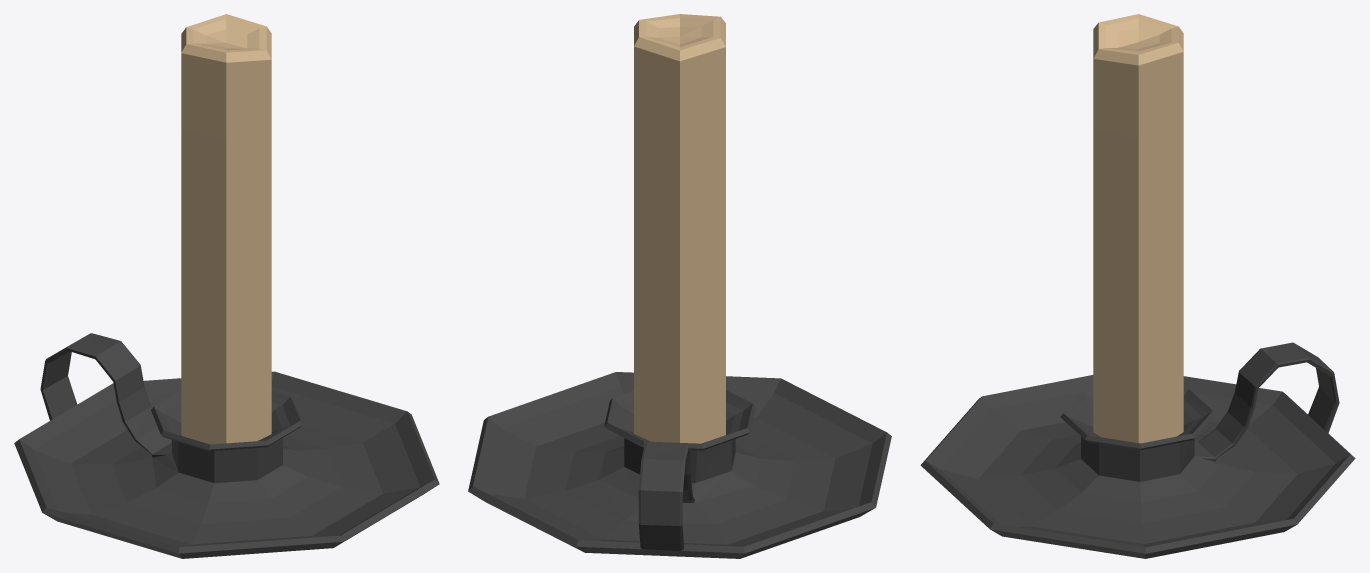
File: Candle01_FBX.fbx
3 renders of one model, left to right at view 1: azimuth 30°, elevation 25°; view 2: azimuth 150°, elevation 25°; view 3: azimuth 270°, elevation 25°, orthographic.
Parts seen in each view (by area): view 1: Candle_Holder, Candle; view 2: Candle_Holder, Candle; view 3: Candle_Holder, Candle.
Boxes of the visible parts, <box> form: Candle_Holder: <box>14,333,439,558</box>; Candle: <box>181,14,271,444</box>; Candle_Holder: <box>468,372,891,558</box>; Candle: <box>634,14,725,443</box>; Candle_Holder: <box>920,342,1355,558</box>; Candle: <box>1093,14,1183,443</box>.
Size of the model in its own units: 21.22 by 24.64 by 21.22.
